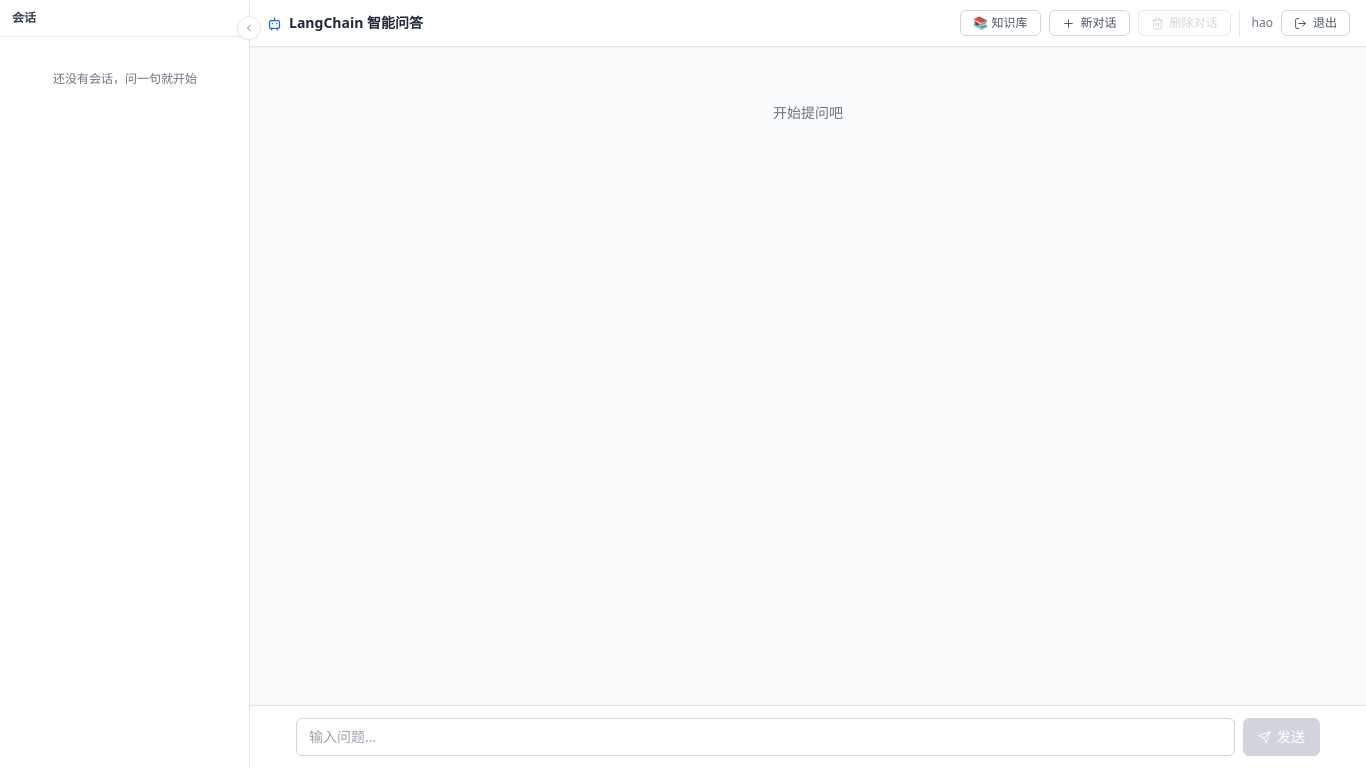
Test: App 集成 › 点删除 → 弹窗 → 确认 → 调 DELETE、消息清空、弹窗关闭
In the field with placeholder "输入问题…": (766, 737) top-left (296, 718), bottom-right (1235, 756), type "待删的问题"
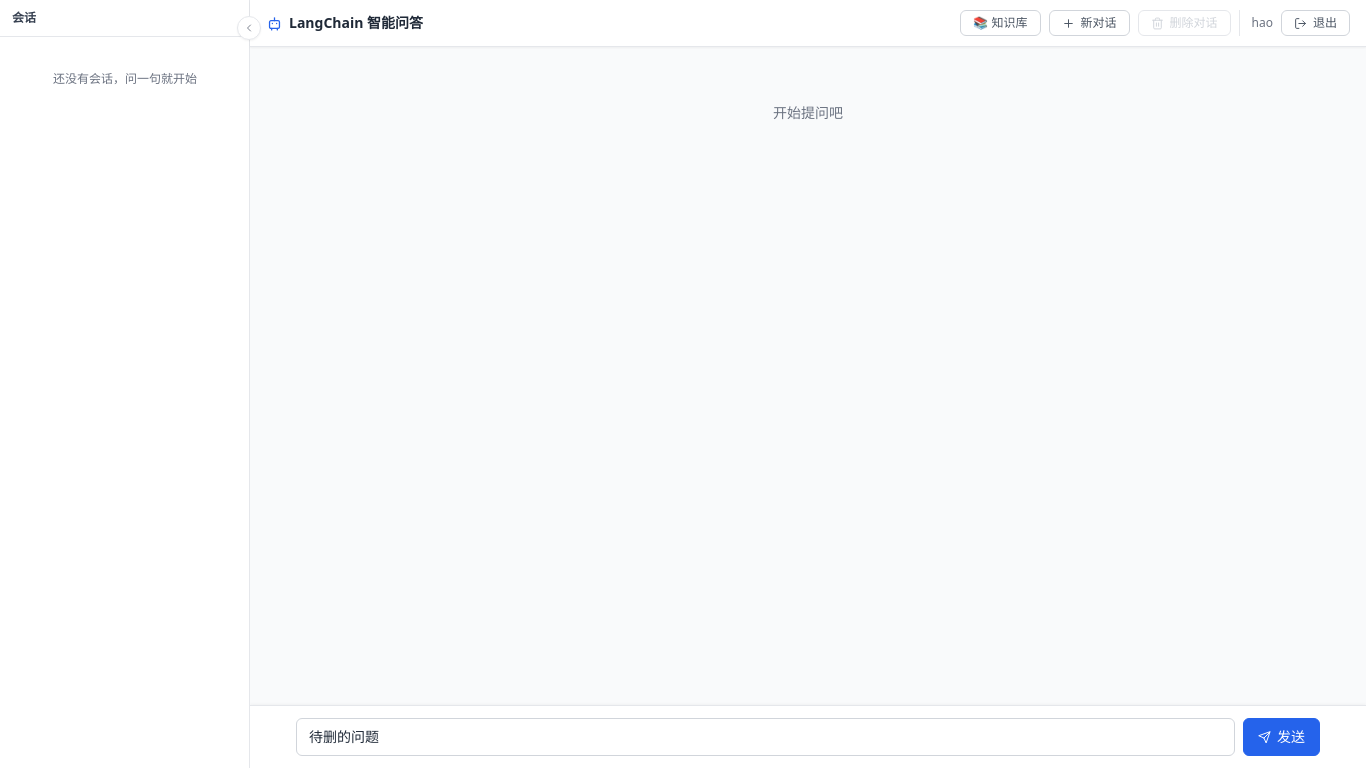
Click the button "发送": (1282, 737) top-left (1243, 718), bottom-right (1320, 756)
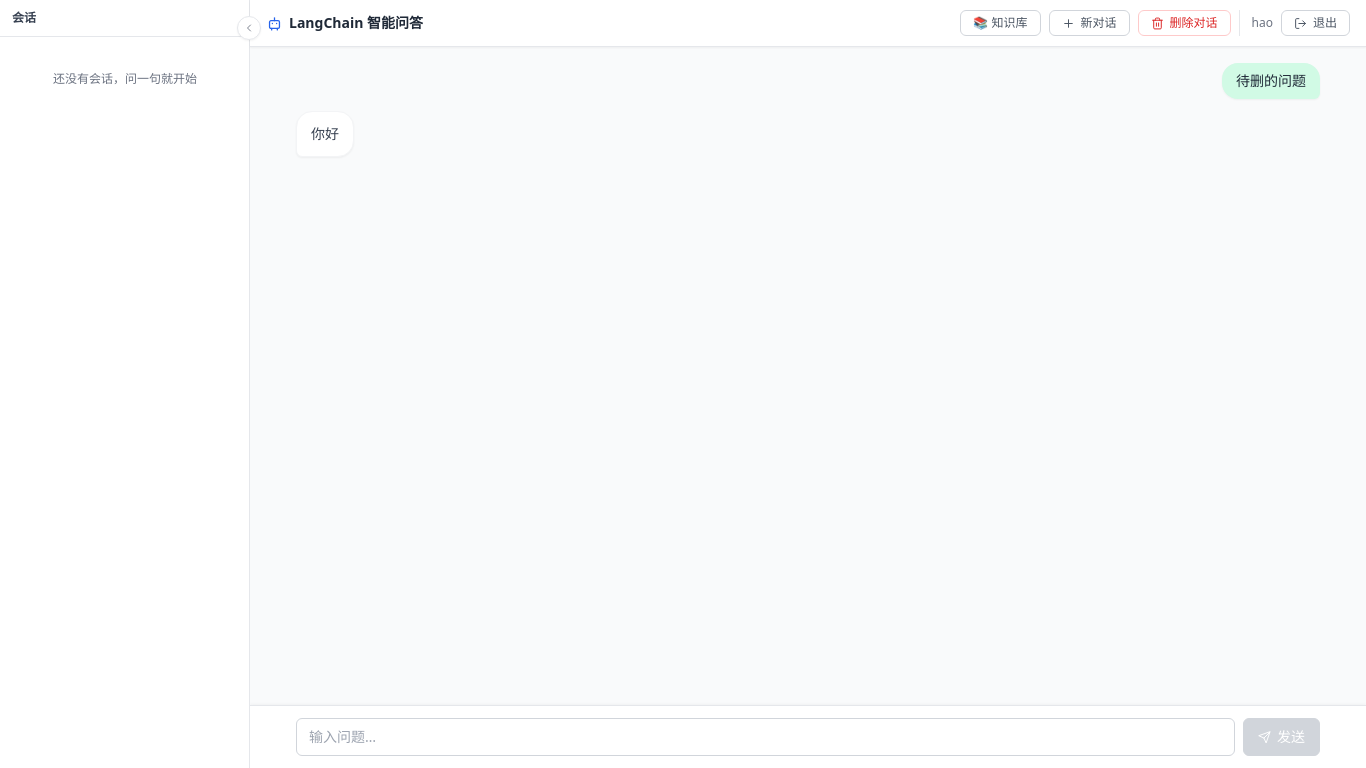
Result: the text "待删的问题" is shown at top-left (1222, 63), bottom-right (1320, 99)
Click the button with test id "btn-delete-chat": (1184, 23) top-left (1138, 10), bottom-right (1230, 36)
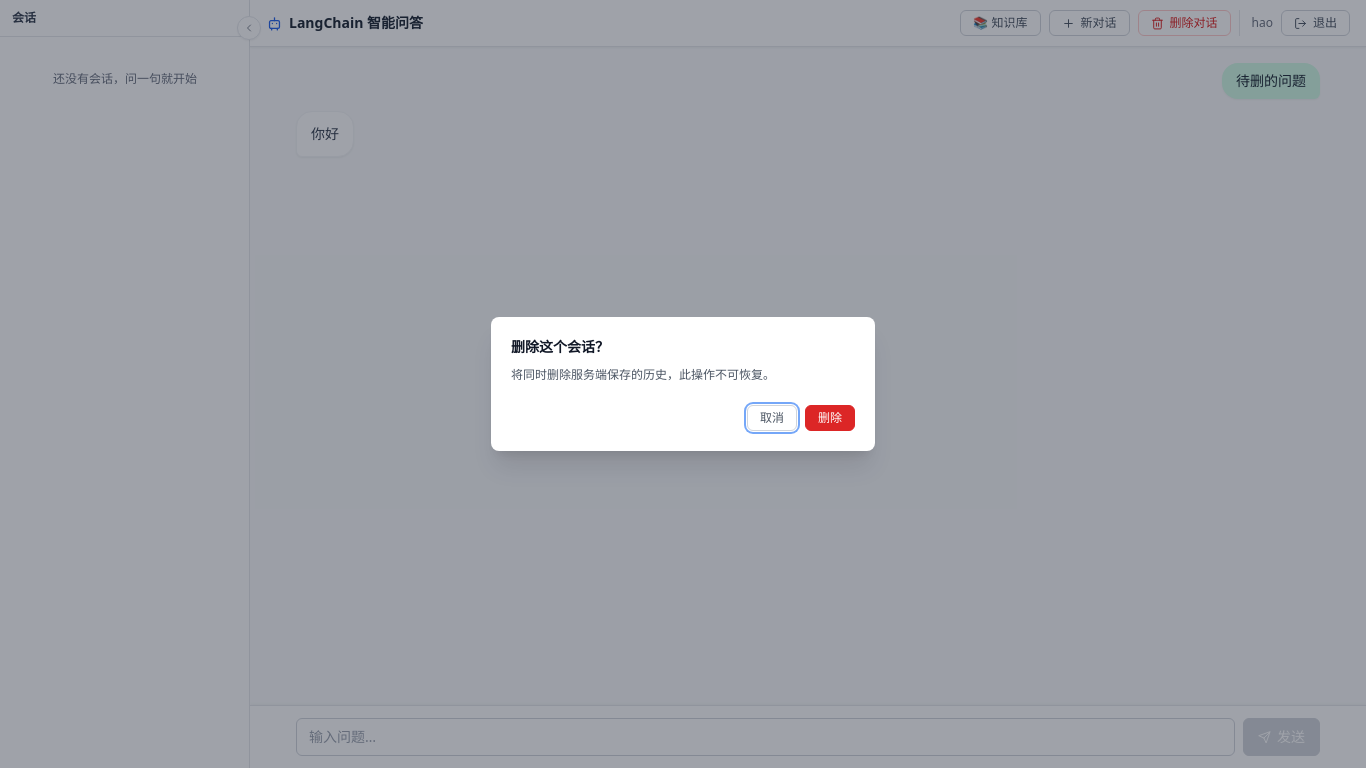
Result: the dialog with test id "confirm-dialog" is shown at top-left (491, 317), bottom-right (875, 451)
Click the button with test id "confirm-ok": (830, 418) top-left (805, 405), bottom-right (855, 431)
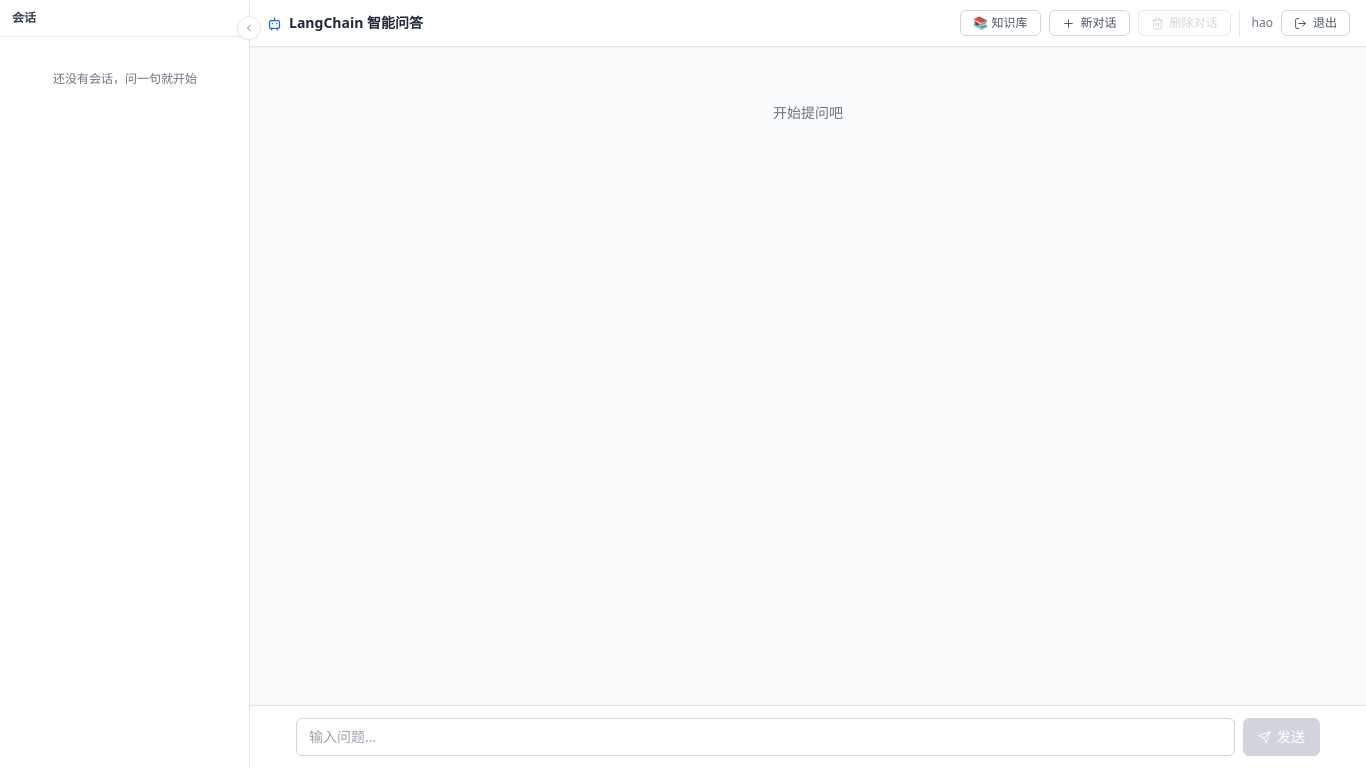
Result: the dialog with test id "confirm-dialog" is gone
Result: the text "待删的问题" is gone
